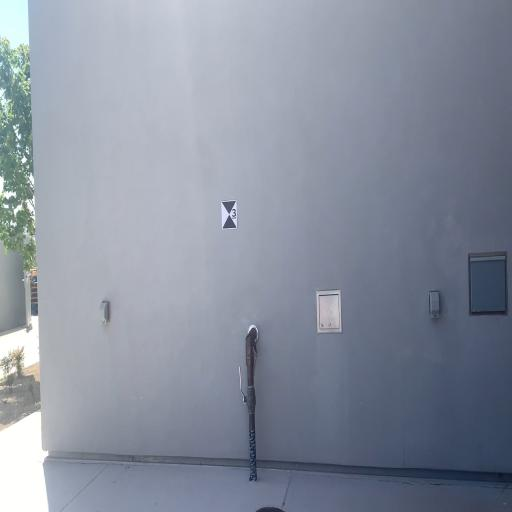target3: (221, 200, 237, 231)
